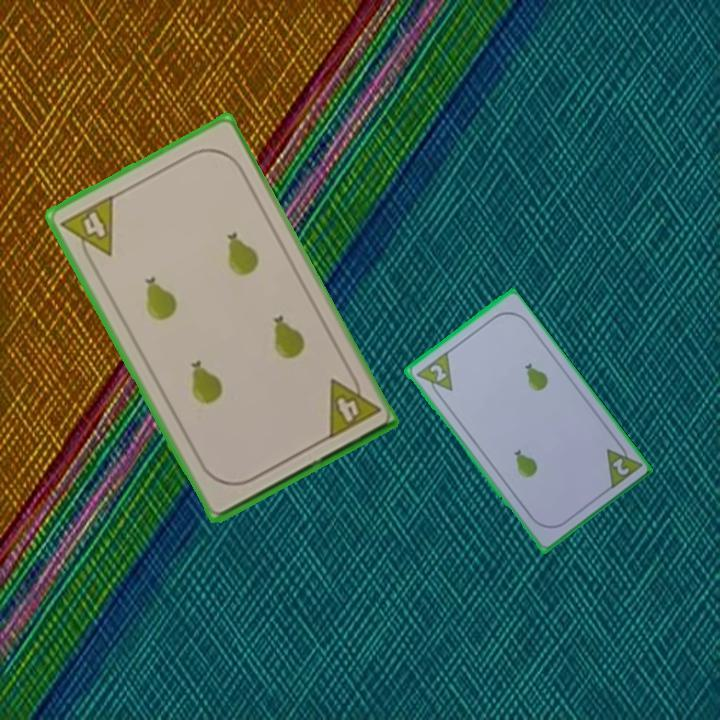2p: (412, 348, 456, 402), (602, 437, 644, 492)
4p: (57, 191, 117, 269), (323, 367, 383, 442)
